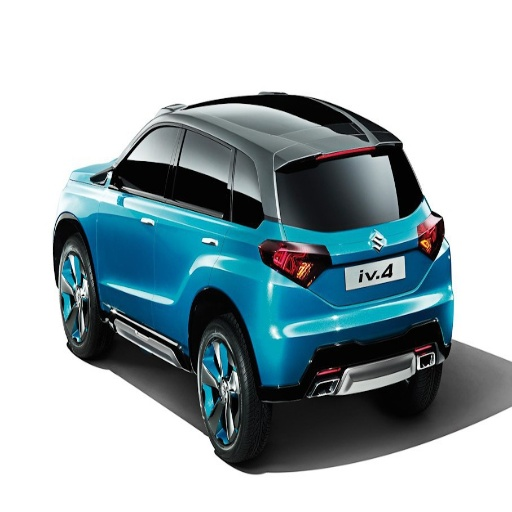back_bumper: (250, 259, 453, 400)
back_glass: (314, 173, 418, 230)
back_left_door: (145, 123, 231, 338)
tailgate: (314, 217, 418, 303)
